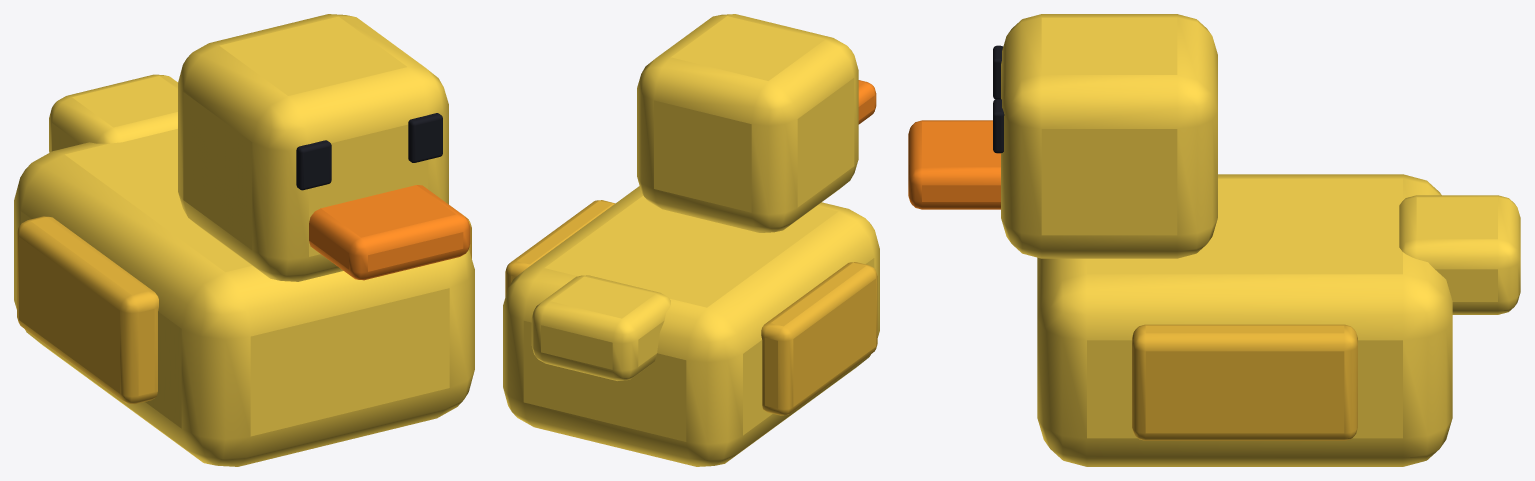
File: duck.glb
3 renders of one model, left to right at view 1: azimuth 30°, elevation 25°; view 2: azimuth 150°, elevation 25°; view 3: azimuth 270°, elevation 25°, orthographic. The views are drawn at different scales.
Visible parts, largest first — view 1: DuckBody, DuckHead, Wing, Beak, DuckTail, DuckEye, DuckEye.001; view 2: DuckBody, DuckHead, Wing, DuckTail, Wing.001, Beak; view 3: DuckBody, DuckHead, Wing.001, DuckTail, Beak.
Boxes of the visible parts, bbox=[...] form: DuckBody: bbox=[14, 129, 474, 466]; DuckHead: bbox=[178, 14, 448, 281]; Wing: bbox=[17, 216, 158, 404]; Beak: bbox=[309, 185, 470, 280]; DuckTail: bbox=[49, 74, 177, 152]; DuckEye: bbox=[296, 140, 331, 190]; DuckEye.001: bbox=[408, 113, 442, 162]; DuckBody: bbox=[503, 186, 879, 466]; DuckHead: bbox=[637, 14, 858, 232]; Wing: bbox=[761, 262, 877, 415]; DuckTail: bbox=[531, 275, 670, 380]; Wing.001: bbox=[505, 200, 615, 296]; Beak: bbox=[858, 80, 876, 124]; DuckBody: bbox=[1037, 174, 1452, 466]; DuckHead: bbox=[1001, 14, 1217, 258]; Wing.001: bbox=[1132, 324, 1357, 440]; DuckTail: bbox=[1399, 195, 1520, 314]; Beak: bbox=[908, 120, 1000, 209].
Bounding box in the file's own units: 0.88 × 0.9 × 1.36.
